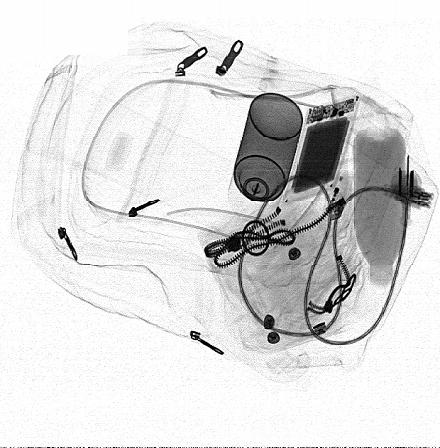Lighter: (326, 157, 360, 222)
Powerbank: (282, 94, 363, 204)
Sprayer: (226, 93, 303, 224)
